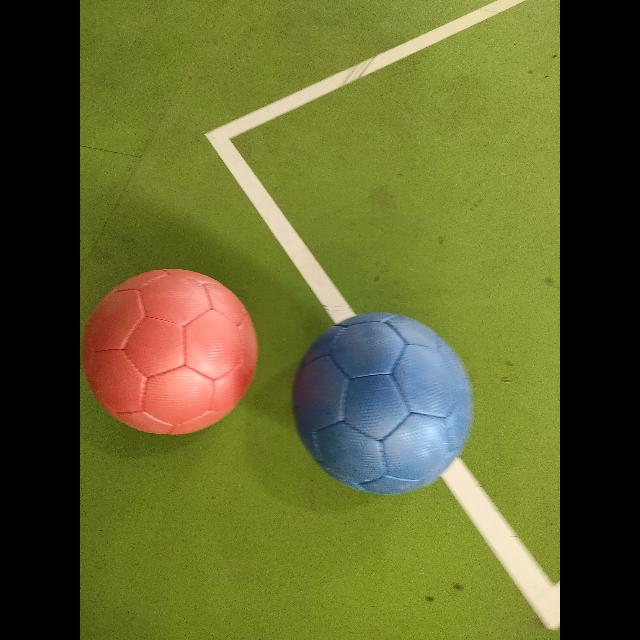B: (293, 313, 472, 493)
R: (82, 269, 256, 433)
